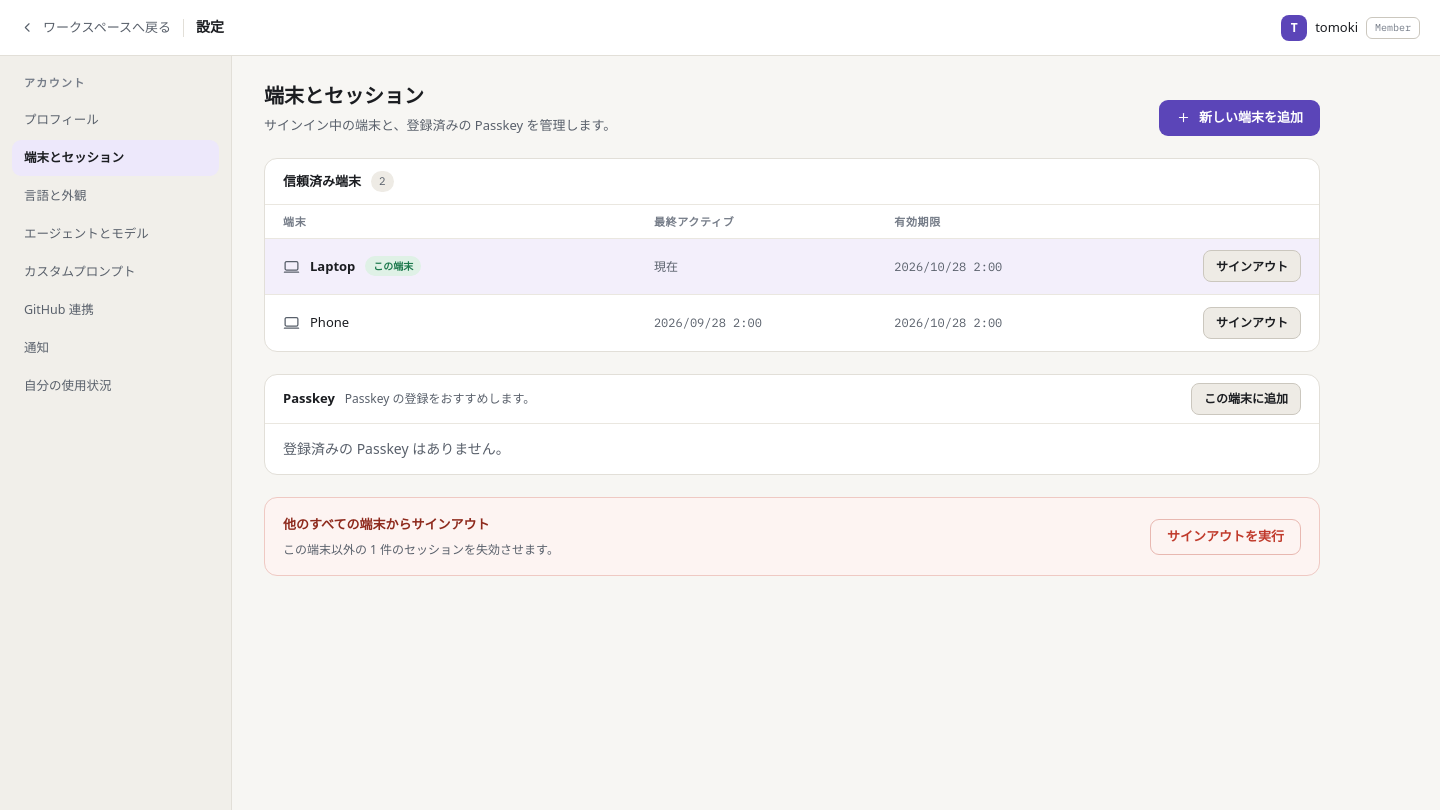
Test case: 設定 › 端末とセッション › lists the signed-in devices and signs one out
Expected: the text "Phone" is shown, [310, 312, 349, 333]
Expected: the text "この端末" is shown, [365, 256, 421, 276]
Click the button "サインアウト" in the row of "Phone" at (1252, 323), box [1203, 307, 1301, 339]
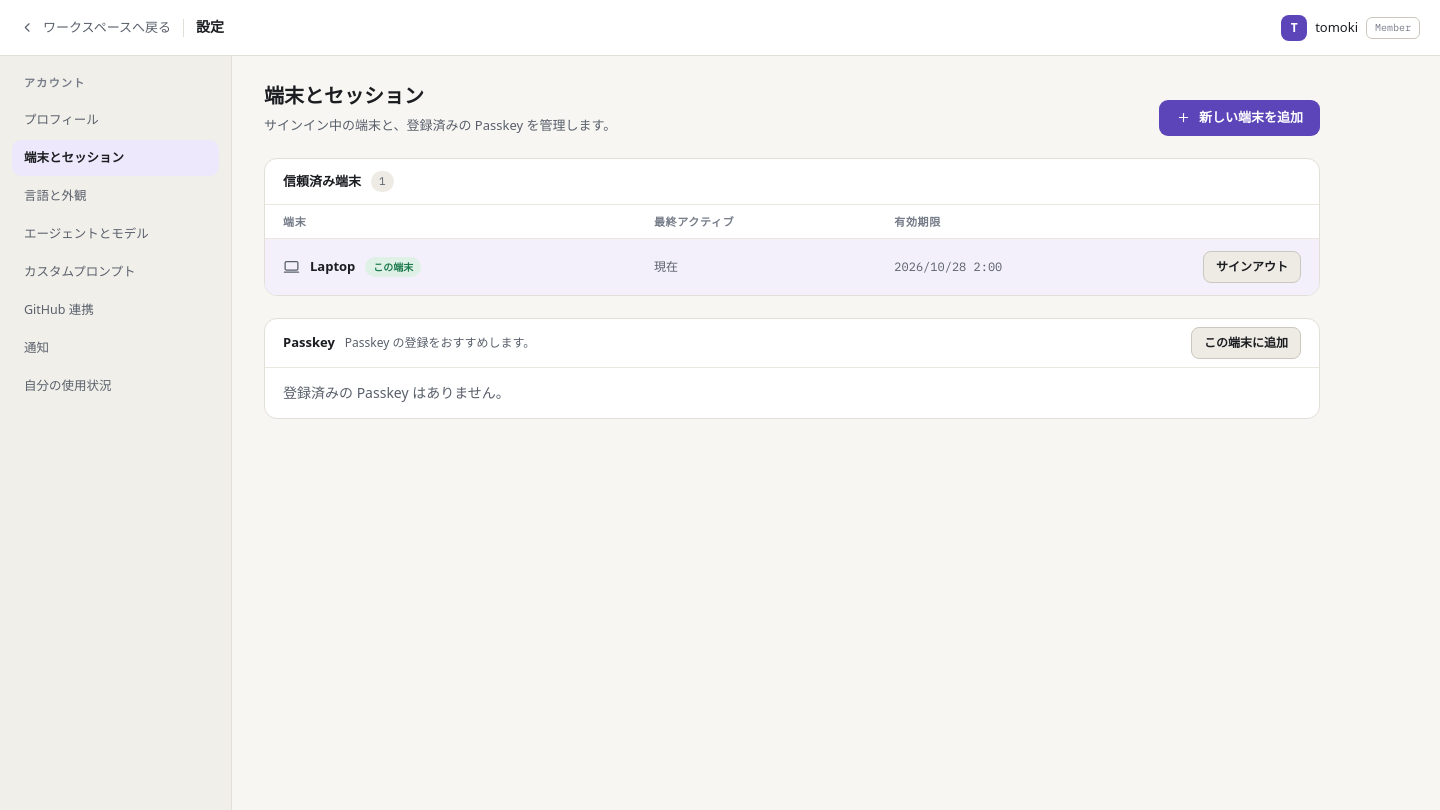
Result: the text "Phone" is gone
